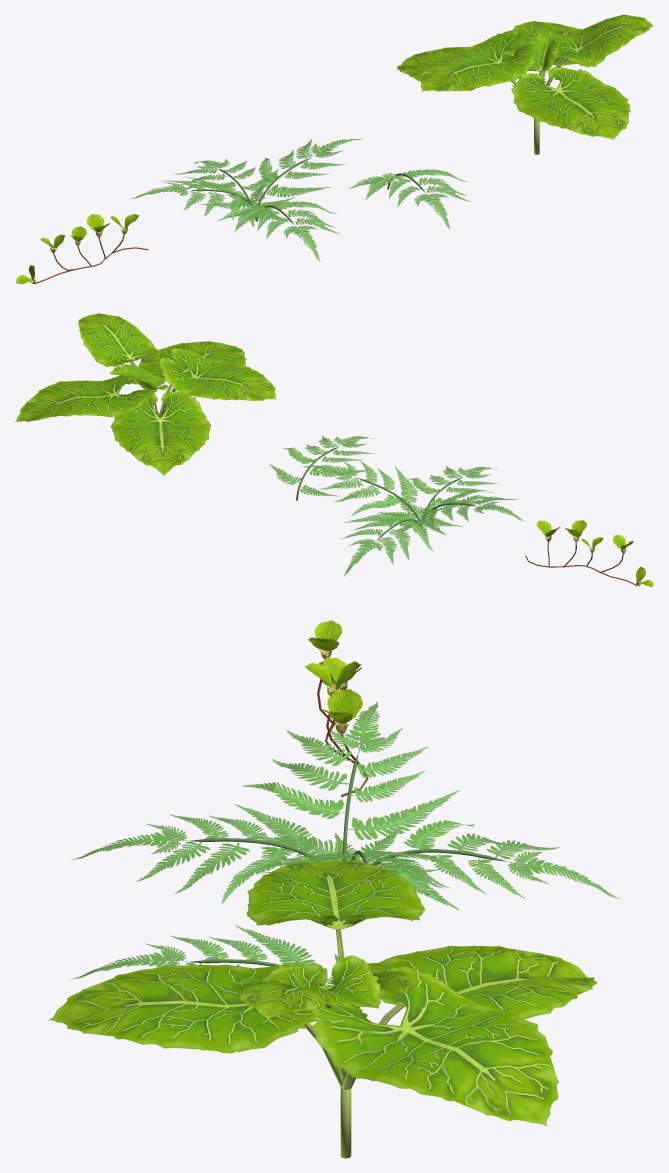
Rendered from plants2.glb.
3 renders of one model, top to bottom at view 1: azimuth 30°, elevation 25°; view 2: azimuth 150°, elevation 25°; view 3: azimuth 270°, elevation 25°, orthographic. The views are drawn at different scales.
Visible parts, largest first — view 1: UbayuriMatome.003, ShibaMatome.003, ShibaMTanpin, iwagaramiMatome.002; view 2: UbayuriMatome.003, ShibaMatome.003, ShibaMTanpin, iwagaramiMatome.002; view 3: UbayuriMatome.003, ShibaMatome.003, iwagaramiMatome.002, ShibaMTanpin.
Part boxes in pixels (x1,y1,x2,y2): UbayuriMatome.003: (396,14,653,154); ShibaMatome.003: (131,138,362,261); ShibaMTanpin: (349,169,470,229); iwagaramiMatome.002: (15,214,148,284); UbayuriMatome.003: (15,313,276,476); ShibaMatome.003: (301,460,524,576); ShibaMTanpin: (270,435,375,500); iwagaramiMatome.002: (525,520,653,587); UbayuriMatome.003: (48,860,597,1158); ShibaMatome.003: (71,702,620,910); iwagaramiMatome.002: (304,620,368,796); ShibaMTanpin: (71,925,338,986).
Size of the model in its own units: 15.37 by 3.02 by 6.46.
Materials: 3 (3 with a texture image).
